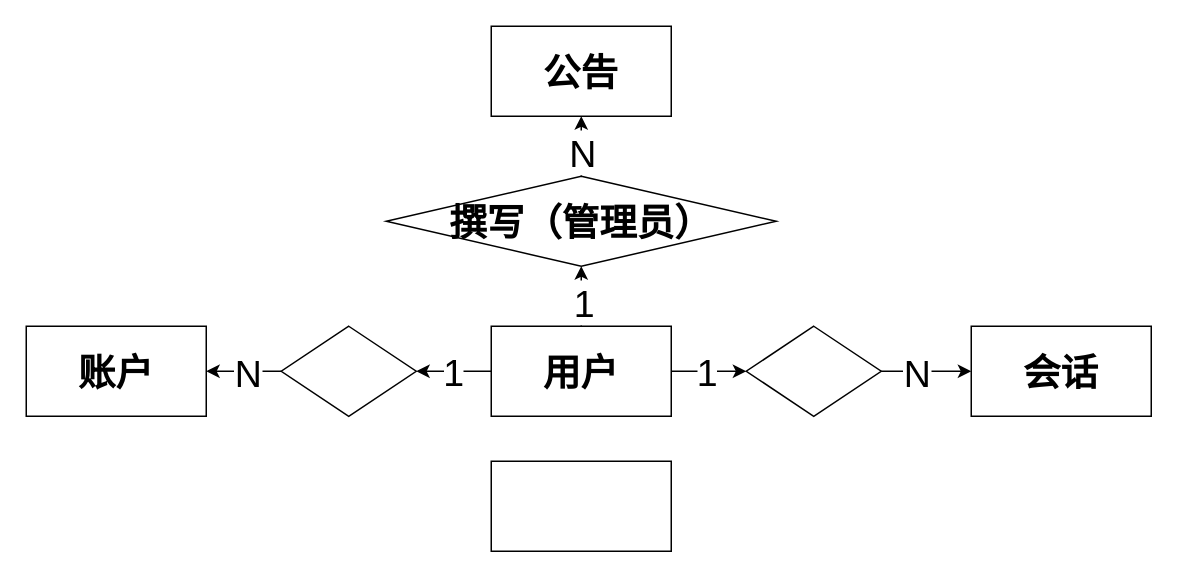
Image size: 1178x578. Some labels were removed from this diagram. The shapes that lost their labels are listed below. From the top down, each one's centre as x and y in pixels, then its label:
(348,370): 拥有
(813,370): 创建
(580,505): 授权码
